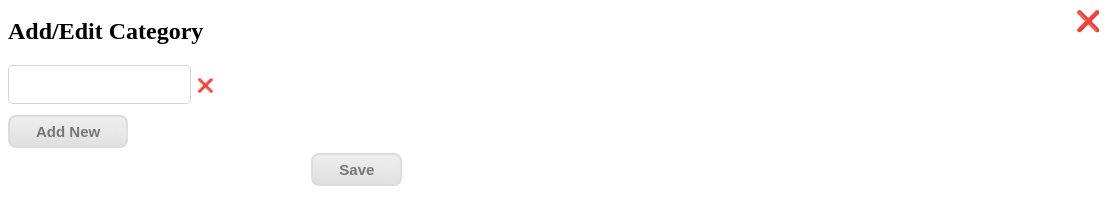
Test: <EditCategory /> › Remove category button
What coordinates should you click on to do the following:
click the button with test id "test-removeCategory-id"
I would click on:
 (205, 85)
Its box is [191,65,220,105].
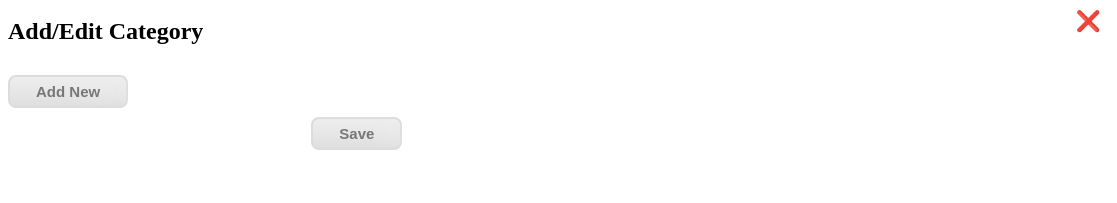
Expected: the button with test id "test-removeCategory-id" is gone
